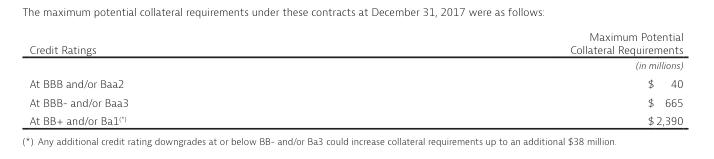table: (28, 29, 682, 127)
table column: (348, 29, 682, 127), (28, 29, 348, 127)
table column header: (28, 29, 682, 73)
table row: (28, 29, 682, 73), (28, 73, 682, 92), (28, 92, 682, 111), (28, 111, 682, 127)
